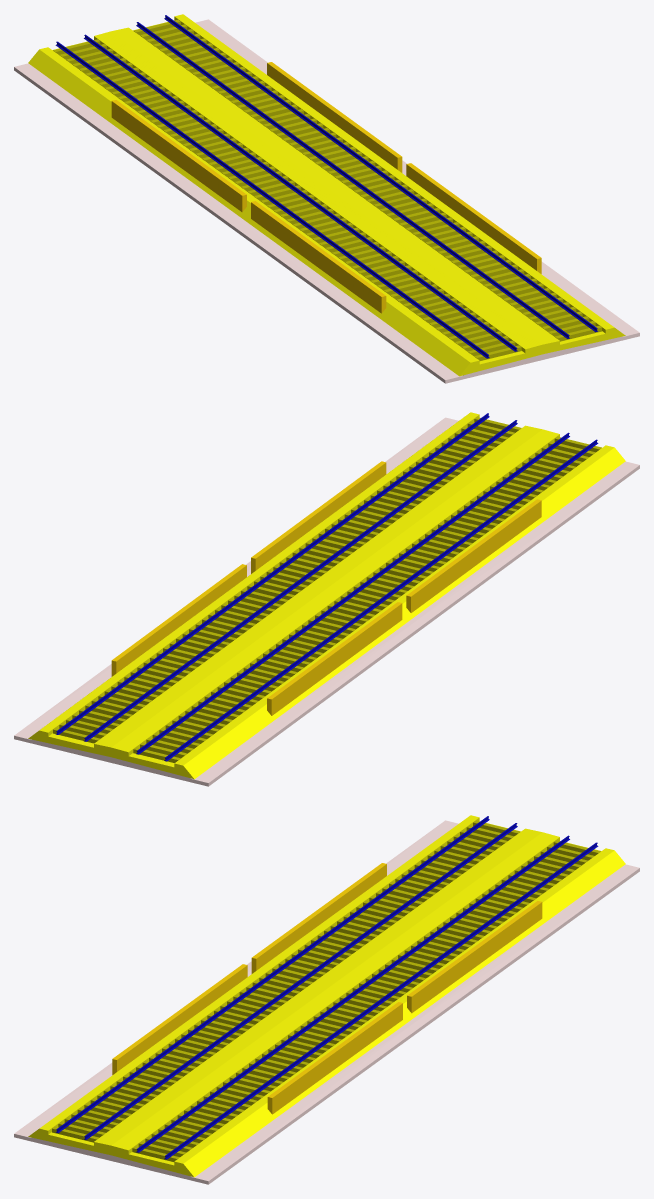
The model's file is slab.glb.
3 views of the same model, one above another, from view 1: azimuth 30°, elevation 25°; view 2: azimuth 150°, elevation 25°; view 3: azimuth 330°, elevation 25° (orthographic).
Parts seen in each view (by area): view 1: m2, m4, m0, m1, m3; view 2: m2, m4, m0, m1, m3; view 3: m2, m4, m0, m1, m3.
Part boxes in pixels (bbox=[...]): m2: bbox=[28, 14, 625, 376]; m4: bbox=[53, 19, 601, 360]; m0: bbox=[14, 19, 639, 383]; m1: bbox=[111, 62, 541, 313]; m3: bbox=[55, 15, 597, 358]; m2: bbox=[28, 412, 625, 779]; m4: bbox=[53, 417, 601, 762]; m0: bbox=[14, 417, 639, 786]; m1: bbox=[111, 461, 541, 715]; m3: bbox=[55, 413, 598, 761]; m2: bbox=[28, 815, 625, 1177]; m4: bbox=[52, 820, 600, 1161]; m0: bbox=[14, 820, 639, 1184]; m1: bbox=[112, 863, 542, 1114]; m3: bbox=[56, 816, 598, 1159].
Size of the model in its own units: 31699 by 3992 by 121737.
